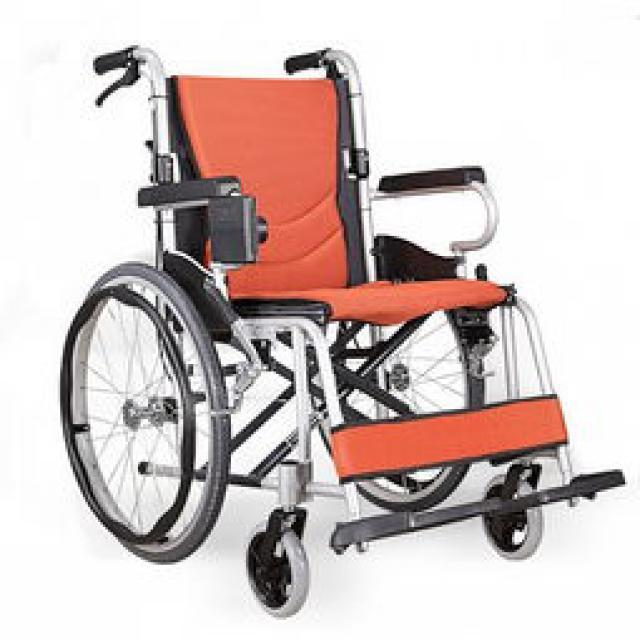wheelchair: (60, 38, 638, 622)
